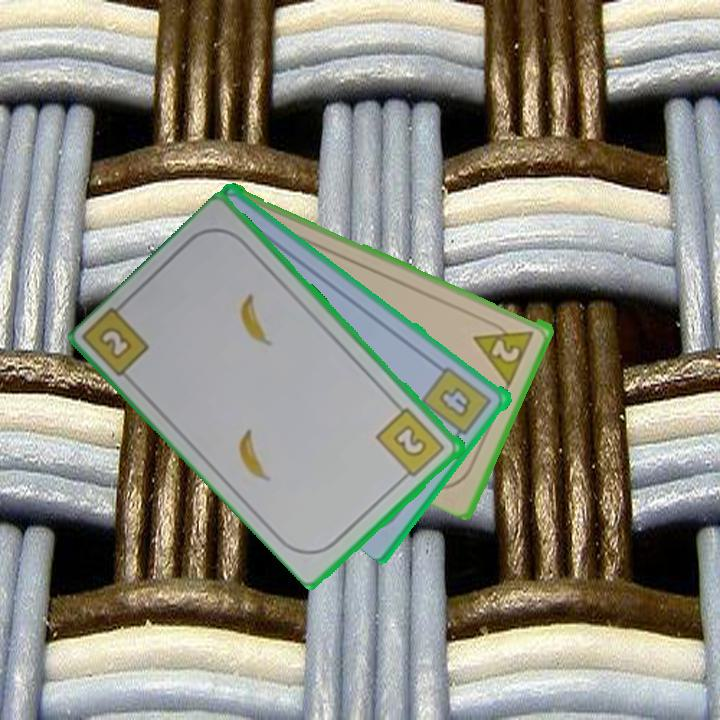2b: (373, 404, 449, 484), (95, 323, 136, 363)
2p: (470, 316, 537, 386)
4b: (418, 363, 495, 443)
